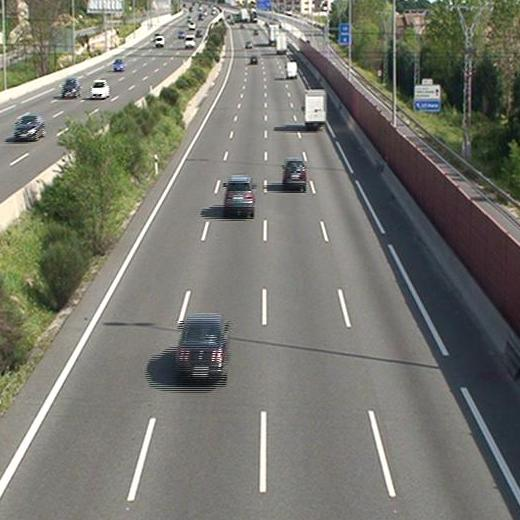car: (175, 316, 229, 381), (222, 176, 255, 214), (283, 159, 306, 189), (248, 55, 259, 65)
small-truck: (303, 90, 325, 128), (275, 32, 287, 53)
van: (284, 63, 297, 79)
